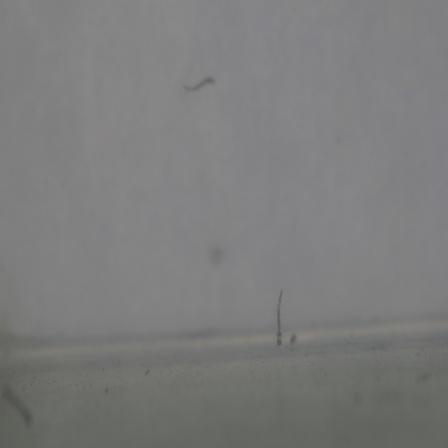Jentik-Nyamuk: (269, 285, 291, 348)
